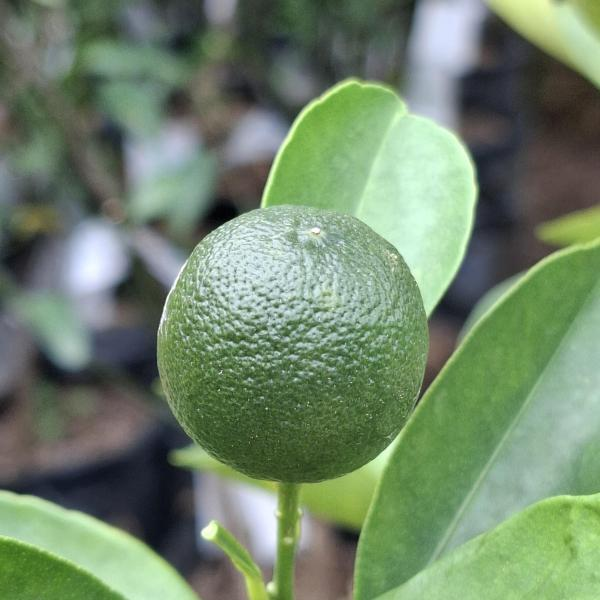Scab: (149, 192, 441, 493)
